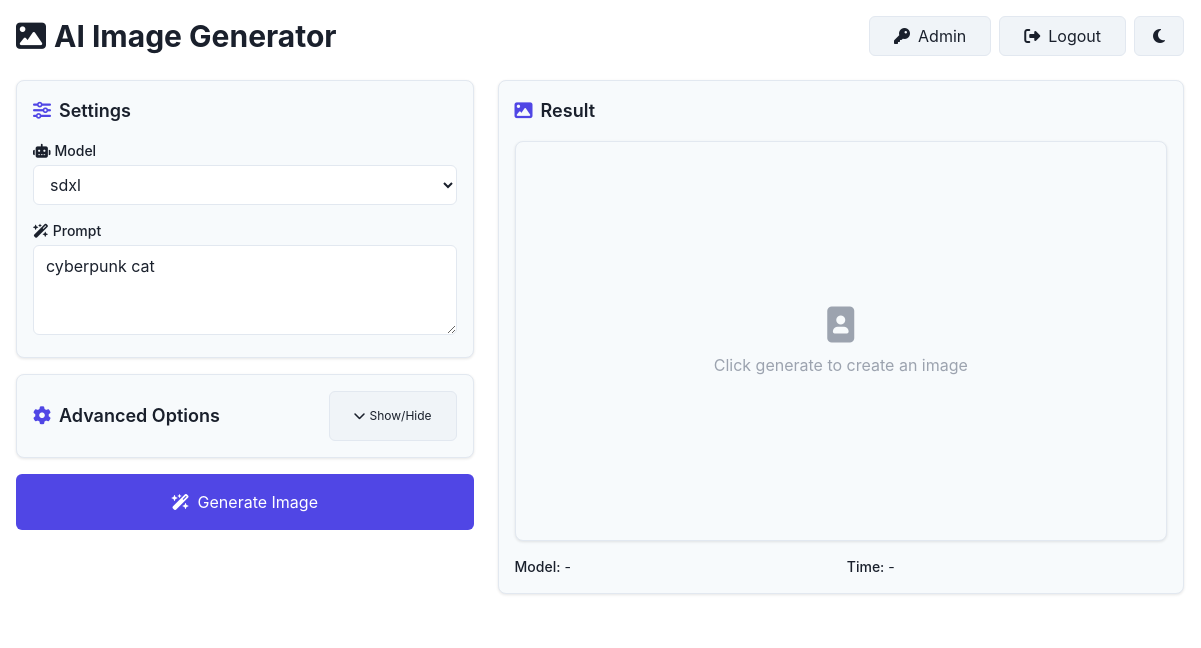
Test: the generator › signs the operator out when the session has expired
The image size is (1201, 648).
What coordinates should you click on to do the following:
click the button with id "submitButton"
I would click on:
 (245, 502)
Its box is [16,474,474,530].
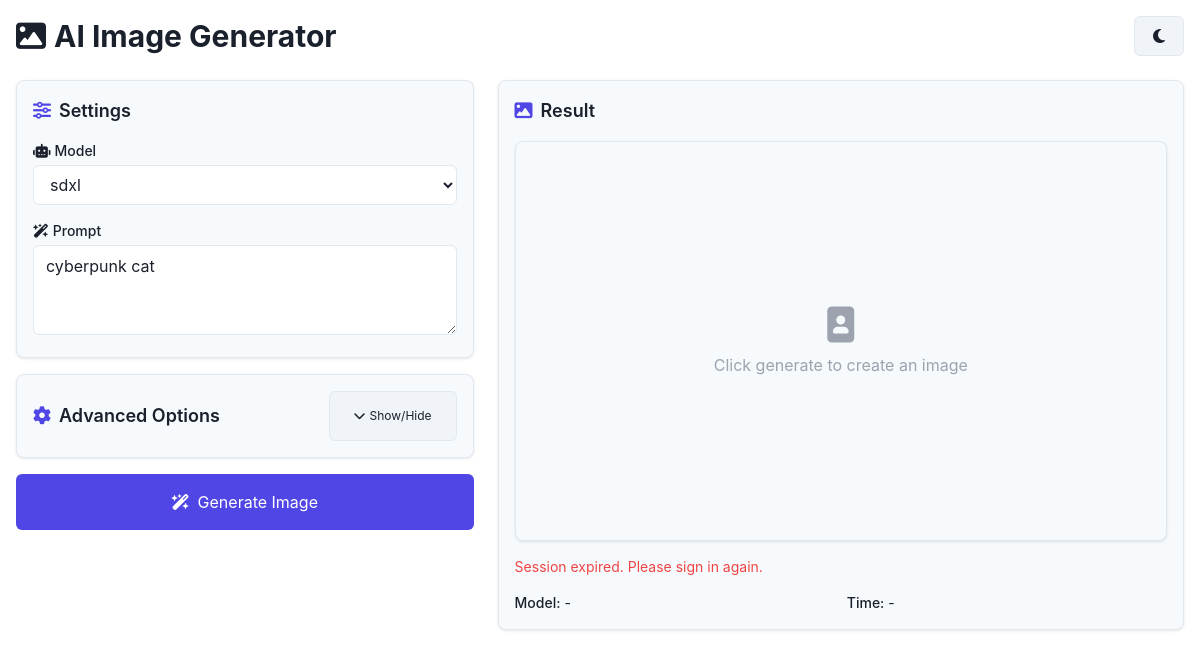
Expected: the text "Session expired. Please sign in again." is shown, [515,558,763,575]
